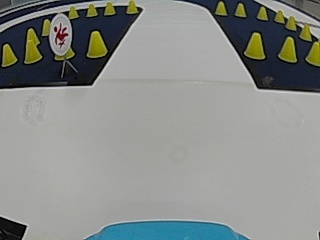cone: (243, 31, 266, 60), (85, 30, 107, 59), (278, 36, 297, 63), (24, 38, 40, 63), (305, 40, 319, 67), (0, 43, 16, 66), (214, 1, 227, 16), (299, 23, 310, 40), (256, 6, 268, 21), (86, 3, 98, 17), (235, 2, 246, 17), (104, 1, 115, 16), (41, 18, 50, 36), (286, 14, 296, 30), (68, 5, 79, 19), (126, 0, 137, 14), (275, 9, 284, 23)
tumble: (51, 16, 70, 51)
